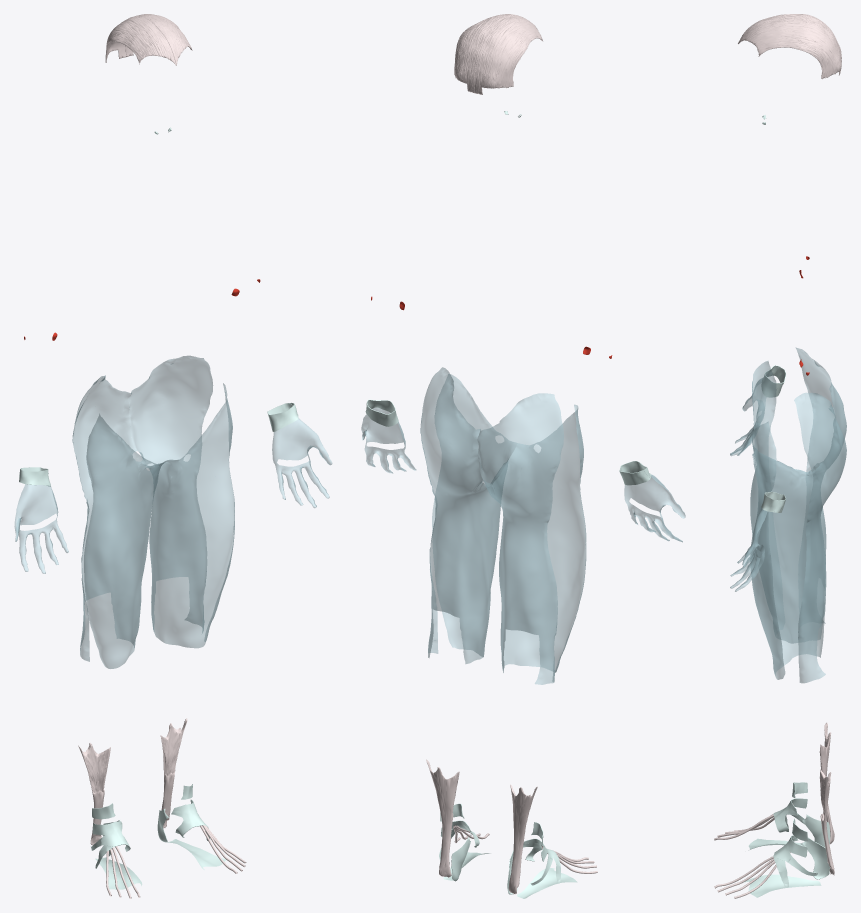
Rendered from tendon.glb.
The picture shows the model from 3 angles, left to right: view 1: azimuth 30°, elevation 25°; view 2: azimuth 150°, elevation 25°; view 3: azimuth 270°, elevation 25°; orthographic projection. The views are drawn at different scales.
Visible parts, largest first — view 1: te0011, te0012, te0023, te0024, te0008, te0002, te0001, te0007, te0026; view 2: te0012, te0011, te0008, te0024, te0023, te0007, te0001, te0002; view 3: te0011, te0012, te0007, te0023, te0025, te0024, te0001, te0031, te0013, te0002, te0008, te0014 (+4 smaller).
Boxes of the visible parts, x1,y1,x2,y2 form: te0011: (128, 355, 234, 648); te0012: (72, 375, 166, 668); te0023: (272, 418, 332, 507); te0024: (14, 484, 68, 573); te0008: (105, 15, 176, 65); te0002: (78, 743, 110, 845); te0001: (160, 718, 187, 827); te0007: (125, 14, 192, 65); te0026: (95, 857, 142, 889); te0012: (477, 393, 586, 684); te0011: (420, 367, 516, 663); te0008: (474, 15, 542, 94); te0024: (624, 474, 685, 542); te0023: (361, 407, 416, 473); te0007: (454, 14, 514, 93); te0001: (426, 759, 459, 877); te0002: (508, 784, 537, 894); te0011: (750, 392, 846, 683); te0012: (750, 347, 846, 643); te0007: (738, 18, 841, 79); te0023: (730, 507, 767, 591); te0025: (744, 874, 821, 897); te0024: (730, 378, 766, 455); te0001: (819, 769, 834, 875); te0031: (714, 852, 790, 898); te0013: (800, 837, 829, 879); te0002: (819, 722, 834, 844); te0008: (739, 14, 841, 58); te0014: (800, 814, 830, 847).
Size of the model in its own units: 0.6707 by 1.7 by 0.2406.
